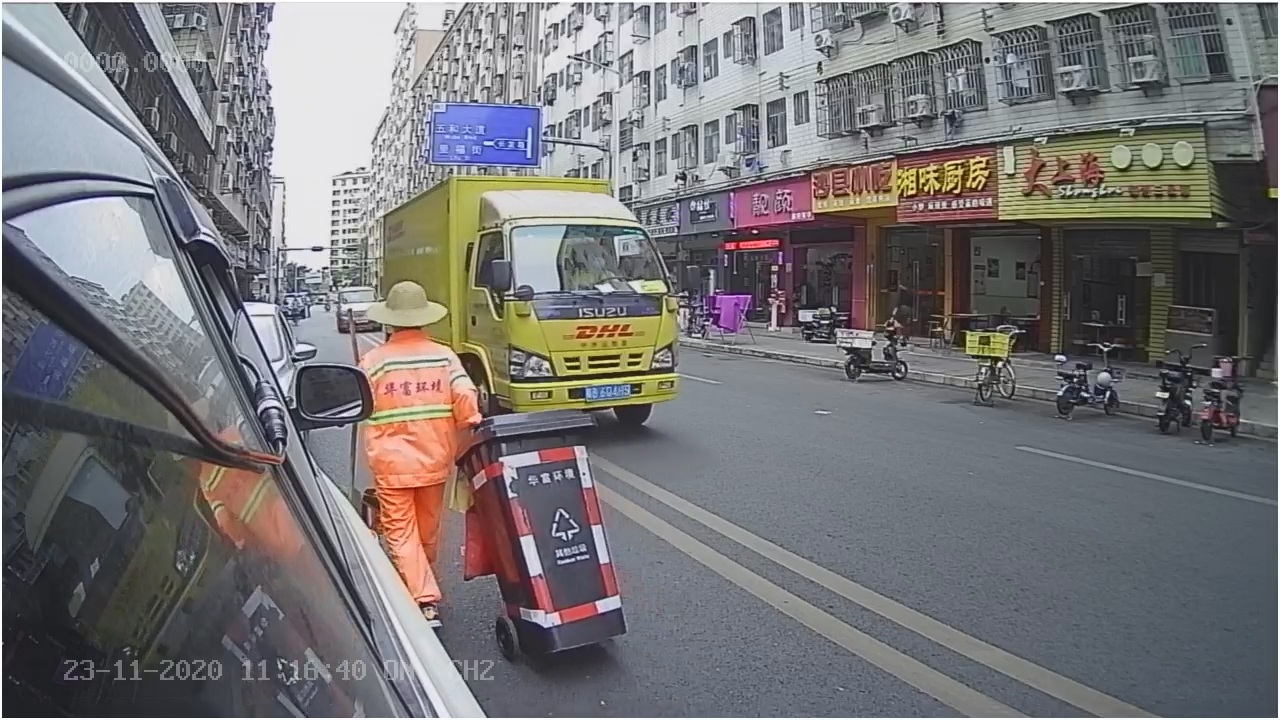person: (354, 276, 483, 421)
